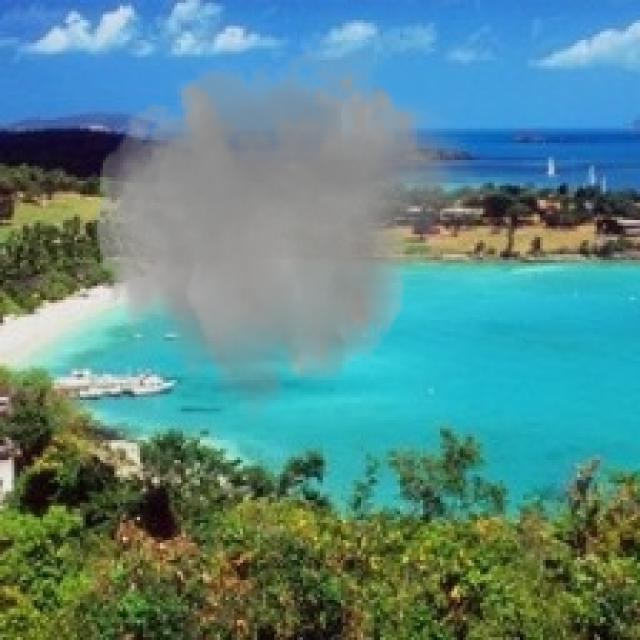smoke: (86, 31, 483, 432)
